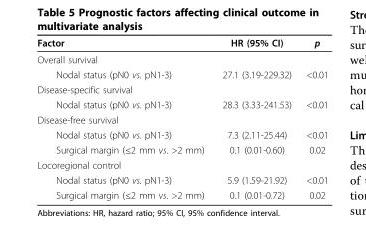table: (36, 36, 327, 200)
table column: (36, 36, 212, 200), (212, 36, 298, 200), (298, 36, 327, 200)
table column header: (36, 36, 327, 50)
table projected row header: (36, 50, 327, 66), (36, 81, 327, 96), (36, 111, 327, 126), (36, 157, 327, 172)
table row: (36, 50, 327, 66), (36, 141, 327, 157), (36, 66, 327, 81), (36, 81, 327, 96), (36, 96, 327, 111), (36, 111, 327, 126), (36, 126, 327, 141), (36, 157, 327, 172), (36, 172, 327, 187), (36, 36, 327, 50), (36, 187, 327, 200)
